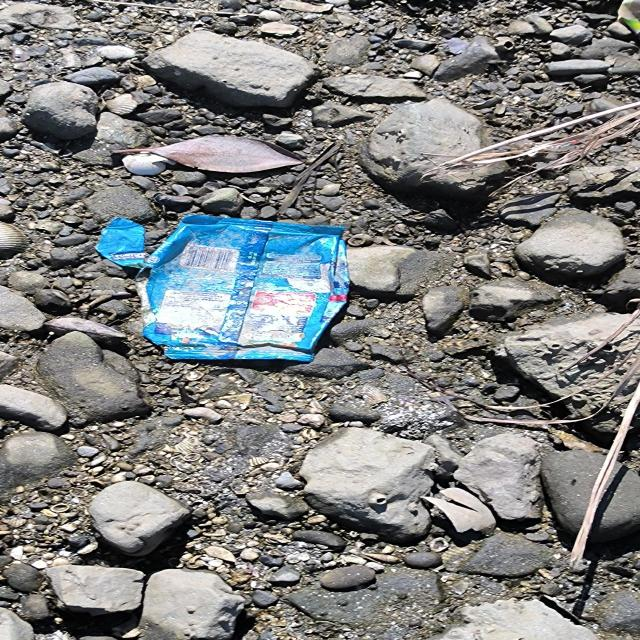plastic_waste: (94, 214, 353, 364)
